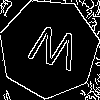W: (24, 23, 82, 81)
